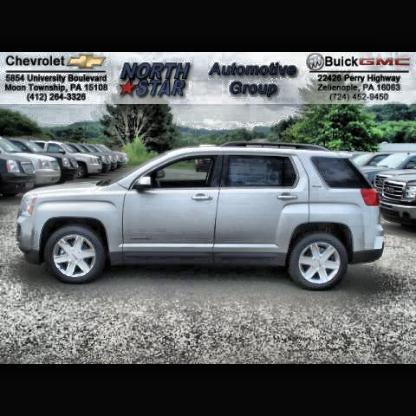GMC Terrain SUV 2012: (18, 144, 389, 288)
